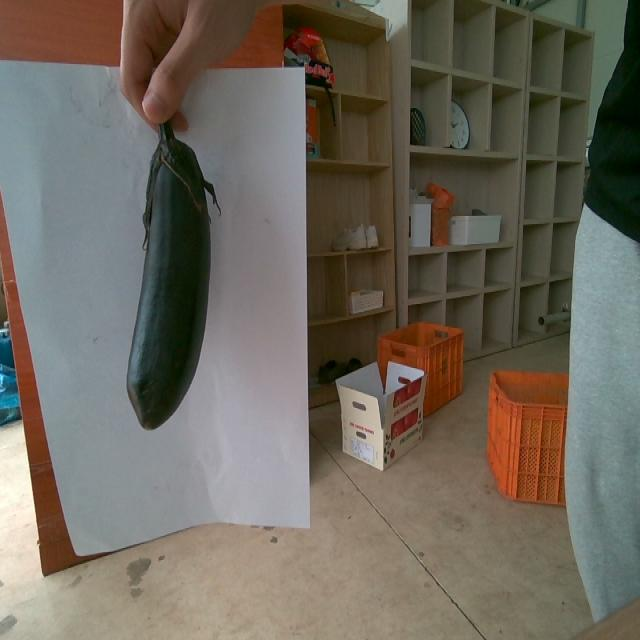Egg plant: (127, 123, 219, 428)
